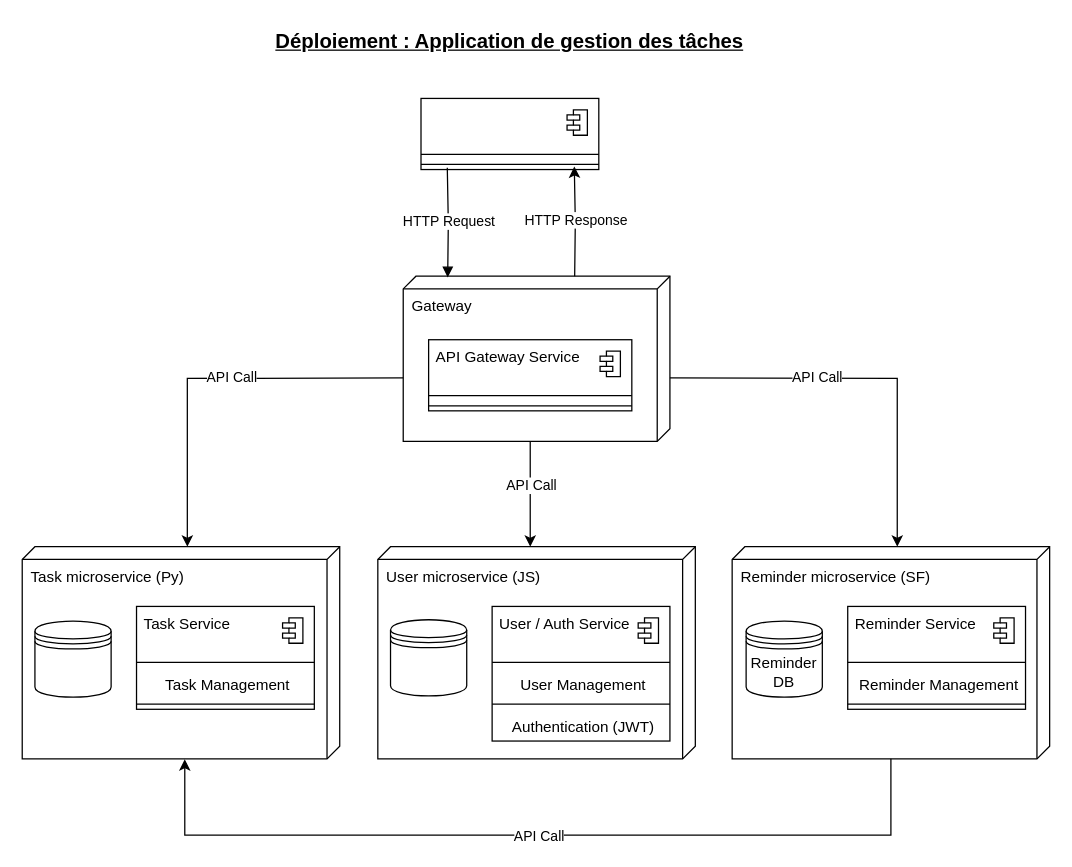
The diagram is 1072 pixels wide and 867 high, and some of its shapes have lost their labels. Each missing label, with the centre of its shape:
"Client HTTP" belongs at pixel 509 133.
"Task DB" belongs at pixel 72 658.
"User DB" belongs at pixel 428 657.
